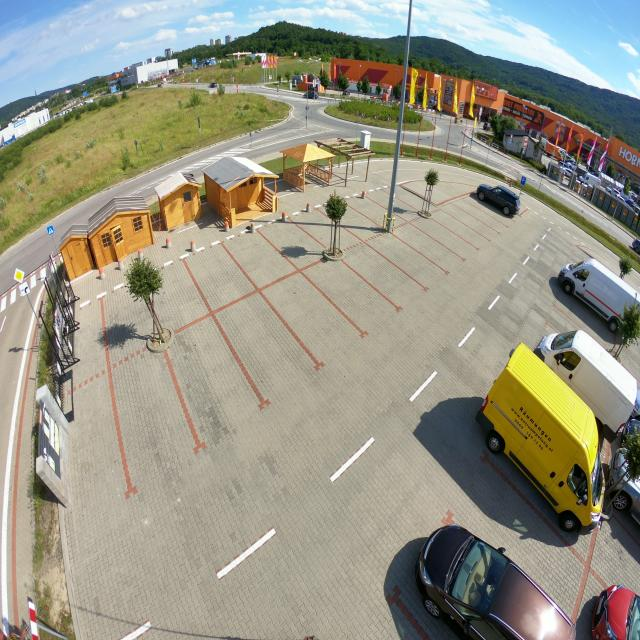empty: (116, 377, 184, 489), (61, 395, 117, 516), (178, 342, 241, 446), (233, 312, 292, 409), (282, 292, 336, 364), (150, 270, 193, 326), (327, 273, 370, 325), (196, 253, 236, 304), (235, 235, 277, 280), (394, 240, 429, 290), (109, 293, 144, 343), (71, 306, 103, 358), (366, 255, 401, 298), (278, 225, 306, 261), (408, 229, 440, 254), (305, 213, 332, 240), (336, 201, 362, 227), (367, 193, 385, 220)
occupied: (481, 347, 601, 506), (416, 511, 540, 640), (549, 330, 640, 429), (551, 240, 640, 317), (471, 161, 530, 223)
